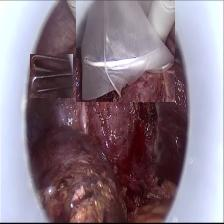Grasper: (30, 54, 73, 98)
Specimen Bag: (76, 0, 175, 102)
